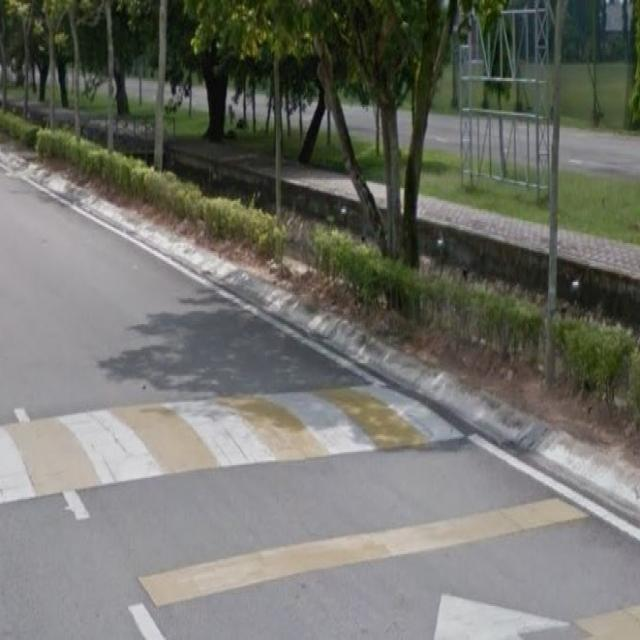speed-bump: (0, 326, 468, 520)
